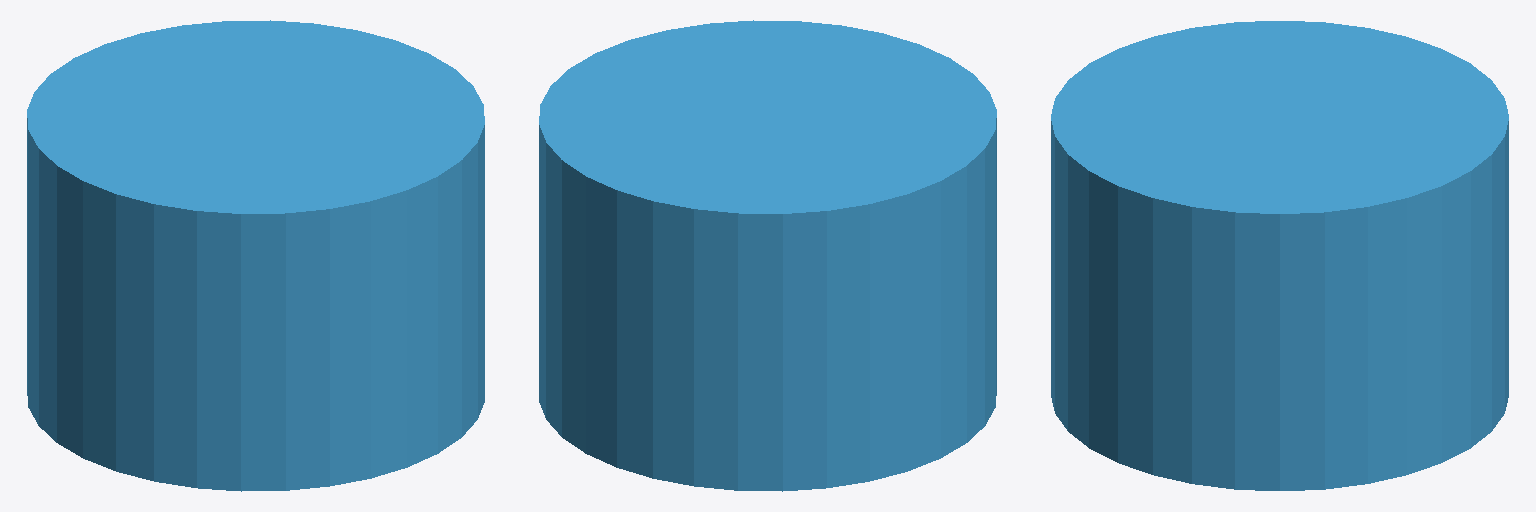
URDF robot description (kuka_lwr_peg_robot):
<?xml version="1.0" ?>
<!-- =================================================================================== -->
<!-- |    This document was autogenerated by xacro from peg_lwr_robot.urdf.xacro       | -->
<!-- |    EDITING THIS FILE BY HAND IS NOT RECOMMENDED                                 | -->
<!-- =================================================================================== -->
<robot name="kuka_lwr_peg_robot" xmlns:xacro="http://ros.org/wiki/xacro">
  <!-- Include all models -->
  <!-- utils /-->
  <!-- Little helper macro to define the inertia matrix needed for links. -->
  <!-- length is along the y-axis! -->
  <material name="Kuka/DarkGrey">
    <color rgba="0.3 0.3 0.3 1.0"/>
  </material>
  <material name="Kuka/LightGrey">
    <color rgba="0.8 0.8 0.8 1.0"/>
  </material>
  <material name="Kuka/Red">
    <color rgba="0.3 0.3 0.3 1.0"/>
  </material>
  <material name="Kuka/Black">
    <color rgba="0 0 0 1.0"/>
  </material>
  <material name="Kuka/Orange">
    <color rgba="1.0 0.487 0 1.0"/>
  </material>
  <material name="Kuka/Silver">
    <color rgba="1.0 1.0 1.0 1.0"/>
  </material>
  <material name="Kuka/Grey">
    <color rgba="0.7 0.7 0.7 1.0"/>
  </material>
  <material name="Kuka/Blue">
    <color rgba="0.0 0.0 0.8 1.0"/>
  </material>
  <!-- gazebo and transmission models /-->
  <!-- properties /-->
  <!-- reflex to stiffness -->
  <!-- URDF model /-->
  <!-- using the models -->
  <link name="world"/>
  <gazebo reference="world">
    <static>true</static>
    <turnGravityOff>true</turnGravityOff>
  </gazebo>
  <!-- First (shoulder) element of the arm. Fixed to its parent. -->
  <joint name="lwr_base_joint" type="fixed">
    <origin rpy="0 0 0" xyz="0 0 0"/>
    <origin rpy="0 0 0" xyz="0 0 0"/>
    <parent link="world"/>
    <child link="lwr_0_link"/>
  </joint>
  <link name="lwr_0_link">
    <inertial>
      <mass value="2.0"/>
      <origin xyz="0 0 0.055"/>
      <inertia ixx="0.00381666666667" ixy="0" ixz="0" iyy="0.0036" iyz="0" izz="0.00381666666667"/>
    </inertial>
    <visual>
      <origin rpy="0 0 3.14159265359" xyz="0 0 0"/>
      <geometry>
        <mesh filename="lwr_description/meshes/base.dae"/>
      </geometry>
      <material name="Kuka/Orange"/>
    </visual>
    <collision>
      <origin rpy="0 0 3.14159265359" xyz="0 0 0.055"/>
      <geometry>
        <!-- <mesh filename="lwr_description/meshes/convex/arm_base_convex.stl"/> -->
        <cylinder length="0.11" radius="0.07"/>
      </geometry>
    </collision>
  </link>
  <!-- Second segment of the arm. Joint along z-axis -->
  <joint name="lwr_0_joint" type="revolute">
    <origin rpy="0 0 0" xyz="0 0 0.11"/>
    <axis xyz="0 0 1"/>
    <limit effort="176" lower="-2.96705972839" upper="2.96705972839" velocity="1.91986217719"/>
    <dynamics damping="1.0" friction="10.0"/>
    <parent link="lwr_0_link"/>
    <child link="lwr_1_link"/>
  </joint>
  <link name="lwr_1_link">
    <inertial>
      <mass value="2.0"/>
      <origin rpy="0 0 0" xyz="0 -0.06 0.130"/>
      <inertia ixx="0.0136666666667" ixy="0" ixz="0" iyy="0.003" iyz="0" izz="0.0118666666667"/>
    </inertial>
    <visual>
      <origin rpy="0 0 3.14159265359" xyz="0 0 -0.008"/>
      <geometry>
        <mesh filename="lwr_description/meshes/link_1.dae"/>
      </geometry>
      <material name="Kuka/Orange"/>
    </visual>
    <collision>
      <origin rpy="0 0 0" xyz="0 0 0.0"/>
      <geometry>
        <!--mesh filename="lwr_description/meshes/convex/arm_segment_a_convex.stl"/-->
        <sphere radius="0.07"/>
      </geometry>
    </collision>
    <collision>
      <origin rpy="0 0 0" xyz="0 0.06 0.2"/>
      <geometry>
        <sphere radius="0.07"/>
      </geometry>
    </collision>
    <collision>
      <origin rpy="-0.291 0 0" xyz="0 0.03 0.1"/>
      <geometry>
        <cylinder length="0.208" radius="0.07"/>
      </geometry>
    </collision>
  </link>
  <!-- Third segment of the arm. Joint along y-axis -->
  <joint name="lwr_1_joint" type="revolute">
    <origin rpy="0 0 0" xyz="0 0 0.2005"/>
    <axis xyz="0 -1 0"/>
    <limit effort="176" lower="-2.09439510239" upper="2.09439510239" velocity="1.91986217719"/>
    <dynamics damping="1.0" friction="10.0"/>
    <parent link="lwr_1_link"/>
    <child link="lwr_2_link"/>
  </joint>
  <link name="lwr_2_link">
    <inertial>
      <mass value="2.0"/>
      <origin rpy="0 0 0" xyz="0 0.06 0.07"/>
      <inertia ixx="0.0136666666667" ixy="0" ixz="0" iyy="0.003" iyz="0" izz="0.0118666666667"/>
    </inertial>
    <visual>
      <origin rpy="0 0 3.14159265359" xyz="0 0 0.0"/>
      <geometry>
        <mesh filename="lwr_description/meshes/link_2.dae"/>
      </geometry>
      <!--material name="Kuka/Orange"/-->
    </visual>
    <collision>
      <origin rpy="0 0 0" xyz="0 0 0.2"/>
      <geometry>
        <!--mesh filename="lwr_description/meshes/convex/arm_segment_b_convex.stl"/-->
        <sphere radius="0.07"/>
      </geometry>
    </collision>
    <collision>
      <origin rpy="0 0 0" xyz="0 -0.06 0.0"/>
      <geometry>
        <sphere radius="0.07"/>
      </geometry>
    </collision>
    <collision>
      <origin rpy="-0.291 0 0" xyz="0 -0.03 0.1"/>
      <geometry>
        <cylinder length="0.208" radius="0.07"/>
      </geometry>
    </collision>
  </link>
  <!-- Fourth element of the arm. z-axis -->
  <joint name="lwr_2_joint" type="revolute">
    <origin rpy="0 0 0" xyz="0 0 0.20"/>
    <axis xyz="0 0 1"/>
    <limit effort="100" lower="-2.96705972839" upper="2.96705972839" velocity="2.23402144255"/>
    <dynamics damping="1.0" friction="10.0"/>
    <parent link="lwr_2_link"/>
    <child link="lwr_3_link"/>
  </joint>
  <link name="lwr_3_link">
    <inertial>
      <mass value="2.0"/>
      <origin rpy="0 0 0" xyz="0 0.06 0.130"/>
      <inertia ixx="0.0136666666667" ixy="0" ixz="0" iyy="0.003" iyz="0" izz="0.0118666666667"/>
    </inertial>
    <visual>
      <origin rpy="0 0 3.14159265359" xyz="0 0 -0.008"/>
      <geometry>
        <mesh filename="lwr_description/meshes/link_3.dae"/>
      </geometry>
      <material name="Kuka/Orange"/>
    </visual>
    <collision>
      <origin rpy="0 0 0" xyz="0 0 0.0"/>
      <geometry>
        <!--mesh filename="lwr_description/meshes/convex/arm_segment_a_convex.stl"/-->
        <sphere radius="0.07"/>
      </geometry>
    </collision>
    <collision>
      <origin rpy="0 0 0" xyz="0 -0.06 0.2"/>
      <geometry>
        <sphere radius="0.07"/>
      </geometry>
    </collision>
    <collision>
      <origin rpy="0.291 0 0" xyz="0 -0.03 0.1"/>
      <geometry>
        <cylinder length="0.208" radius="0.07"/>
      </geometry>
    </collision>
  </link>
  <!-- fifth element of the arm. x-axis -->
  <joint name="lwr_3_joint" type="revolute">
    <origin rpy="0 0 0" xyz="0 0 0.20"/>
    <axis xyz="0 1 0"/>
    <limit effort="100" lower="-2.09439510239" upper="2.09439510239" velocity="2.23402144255"/>
    <dynamics damping="1.0" friction="10.0"/>
    <parent link="lwr_3_link"/>
    <child link="lwr_4_link"/>
  </joint>
  <link name="lwr_4_link">
    <inertial>
      <mass value="2.0"/>
      <origin rpy="0 0 0" xyz="0 -0.06 0.07"/>
      <inertia ixx="0.0136666666667" ixy="0" ixz="0" iyy="0.003" iyz="0" izz="0.0118666666667"/>
    </inertial>
    <visual>
      <origin rpy="0 0 3.14159265359" xyz="0 0 0.0"/>
      <geometry>
        <mesh filename="lwr_description/meshes/link_4.dae"/>
      </geometry>
      <material name="Kuka/Orange"/>
    </visual>
    <collision>
      <origin rpy="0 0 0" xyz="0 0 0.2"/>
      <geometry>
        <!--mesh filename="lwr_description/meshes/convex/arm_segment_b_convex.stl"/-->
        <sphere radius="0.07"/>
      </geometry>
    </collision>
    <collision>
      <origin rpy="0 0 0" xyz="0 0.06 0.0"/>
      <geometry>
        <sphere radius="0.07"/>
      </geometry>
    </collision>
    <collision>
      <origin rpy="0.291 0 0" xyz="0 0.03 0.1"/>
      <geometry>
        <cylinder length="0.208" radius="0.07"/>
      </geometry>
    </collision>
  </link>
  <!-- Sixth element of the arm. z-axis -->
  <joint name="lwr_4_joint" type="revolute">
    <origin rpy="0 0 0" xyz="0 0 0.20"/>
    <axis xyz="0 0 1"/>
    <limit effort="100" lower="-2.96705972839" upper="2.96705972839" velocity="3.56047167407"/>
    <dynamics damping="1.0" friction="10.0"/>
    <parent link="lwr_4_link"/>
    <child link="lwr_5_link"/>
  </joint>
  <link name="lwr_5_link">
    <inertial>
      <mass value="2.0"/>
      <origin rpy="0 0 0" xyz="0 0 0.124"/>
      <inertia ixx="0.0126506666667" ixy="0" ixz="0" iyy="0.003" iyz="0" izz="0.0108506666667"/>
    </inertial>
    <visual>
      <origin rpy="0 0 3.14159265359" xyz="0 0 -0.008"/>
      <geometry name="lwr_5_geom">
        <mesh filename="lwr_description/meshes/link_5.dae"/>
      </geometry>
      <material name="Kuka/Orange"/>
    </visual>
    <collision>
      <origin rpy="0 0 0" xyz="0 0 0.0"/>
      <geometry>
        <!--mesh filename="lwr_description/meshes/convex/arm_segment_last_convex.stl"/-->
        <sphere radius="0.07"/>
      </geometry>
    </collision>
    <collision>
      <origin rpy="0 0 0" xyz="0 0.04 0.19"/>
      <geometry>
        <sphere radius="0.07"/>
      </geometry>
    </collision>
    <collision>
      <origin rpy="-0.207 0 0" xyz="0 0.02 0.095"/>
      <geometry>
        <cylinder length="0.198" radius="0.07"/>
      </geometry>
    </collision>
  </link>
  <!-- Seventh element of the arm. z-axis -->
  <joint name="lwr_5_joint" type="revolute">
    <origin rpy="0 0 0" xyz="0 0 0.19"/>
    <axis xyz="0 -1 0"/>
    <limit effort="38" lower="-2.09439510239" upper="2.09439510239" velocity="3.21140582367"/>
    <dynamics damping="1.0" friction="10.0"/>
    <parent link="lwr_5_link"/>
    <child link="lwr_6_link"/>
  </joint>
  <link name="lwr_6_link">
    <inertial>
      <mass value="0.2"/>
      <origin rpy="0 0 0" xyz="0 0 0.0625"/>
      <inertia ixx="0.000520833333333" ixy="0" ixz="0" iyy="0.000520833333333" iyz="0" izz="0.000520833333333"/>
    </inertial>
    <visual>
      <origin rpy="0 0 3.14159265359" xyz="0 0 0"/>
      <geometry>
        <mesh filename="lwr_description/meshes/link_6.dae"/>
      </geometry>
      <material name="Kuka/Grey"/>
    </visual>
    <collision>
      <origin rpy="0 0 3.14159265359" xyz="0 0 0"/>
      <geometry>
        <mesh filename="lwr_description/meshes/convex/arm_wrist_convex.stl"/>
      </geometry>
    </collision>
  </link>
  <!-- Eighth element of the arm. z-axis -->
  <joint name="lwr_6_joint" type="revolute">
    <origin rpy="0 0 0" xyz="0 0 0.078"/>
    <axis xyz="0 0 1"/>
    <limit effort="38" lower="-2.96705972839" upper="2.96705972839" velocity="3.21140582367"/>
    <dynamics damping="1.0" friction="10.0"/>
    <parent link="lwr_6_link"/>
    <child link="lwr_7_link"/>
  </joint>
  <link name="lwr_7_link">
    <inertial>
      <mass value="0.2"/>
      <origin xyz="0 0 0"/>
      <inertia ixx="0.0333333333333" ixy="0" ixz="0" iyy="0.0333333333333" iyz="0" izz="0.0333333333333"/>
    </inertial>
    <visual>
      <origin rpy="0 0 3.14159265359" xyz="0 0 0"/>
      <geometry>
        <mesh filename="lwr_description/meshes/link_7.dae"/>
      </geometry>
      <material name="Kuka/DarkGrey"/>
    </visual>
    <collision>
      <origin rpy="0 0 3.14159265359" xyz="0 0 0"/>
      <geometry>
        <cylinder length="0.05" radius="0.04"/>
      </geometry>
    </collision>
  </link>
  <joint name="lwr_hand_joint" type="fixed">
    <parent link="lwr_7_link"/>
    <child link="lwr_hand_link"/>
    <origin rpy="0 0 0" xyz="0 0 0.02"/>
  </joint>
  <link name="lwr_hand_link">
    <inertial>
      <mass value="2.0"/>
      <origin xyz="0 0 0.055"/>
      <inertia ixx="0.00381666666667" ixy="0" ixz="0" iyy="0.0036" iyz="0" izz="0.00381666666667"/>
    </inertial>
    <visual>
      <geometry>
        <cylinder length="0.04" radius="0.03"/>
      </geometry>
    </visual>
    <collision>
      <geometry>
        <cylinder length="0.04" radius="0.03"/>
      </geometry>
    </collision>
  </link>
  <joint name="panda_hand_joint" type="fixed">
    <parent link="lwr_hand_link"/>
    <child link="panda_hand"/>
    <origin rpy="0 0 -0.785398163397" xyz="0 0 0.04"/>
  </joint>
  <link name="panda_hand">
    <visual>
      <geometry>
        <mesh filename="../panda/franka_description/meshes/visual/hand.dae"/>
      </geometry>
    </visual>
    <collision>
      <geometry>
        <mesh filename="../panda/franka_description/meshes/collision/hand.stl"/>
      </geometry>
    </collision>
  </link>
  <link name="panda_leftfinger">
    <visual>
      <geometry>
        <mesh filename="../panda/franka_description/meshes/visual/finger.dae"/>
      </geometry>
    </visual>
    <collision>
      <geometry>
        <mesh filename="../panda/franka_description/meshes/collision/finger.stl"/>
      </geometry>
    </collision>
  </link>
  <link name="panda_rightfinger">
    <visual>
      <origin rpy="0 0 3.14159265359" xyz="0 0 0"/>
      <geometry>
        <mesh filename="../panda/franka_description/meshes/visual/finger.dae"/>
      </geometry>
    </visual>
    <collision>
      <origin rpy="0 0 3.14159265359" xyz="0 0 0"/>
      <geometry>
        <mesh filename="../panda/franka_description/meshes/collision/finger.stl"/>
      </geometry>
    </collision>
  </link>
  <joint name="panda_finger_joint1" type="prismatic">
    <parent link="panda_hand"/>
    <child link="panda_leftfinger"/>
    <origin rpy="0 0 0" xyz="0 0 0.0584"/>
    <axis xyz="0 1 0"/>
    <limit effort="20" lower="0.0" upper="0.04" velocity="0.2"/>
  </joint>
  <joint name="panda_finger_joint2" type="prismatic">
    <parent link="panda_hand"/>
    <child link="panda_rightfinger"/>
    <origin rpy="0 0 0" xyz="0 0 0.0584"/>
    <axis xyz="0 -1 0"/>
    <limit effort="20" lower="0.0" upper="0.04" velocity="0.2"/>
    <mimic joint="panda_finger_joint1"/>
  </joint>
</robot>

--- Render facts (derived) ---
3 views of the same robot in one strip: view 1: azimuth 30°, elevation 25°; view 2: azimuth 150°, elevation 25°; view 3: azimuth 270°, elevation 25° (orthographic).
Model kuka_lwr_peg_robot with 13 links and 12 joints (7 revolute, 2 prismatic, 3 fixed), rooted at world, posed every joint at zero.
Visible links, largest first — view 1: lwr_hand_link; view 2: lwr_hand_link; view 3: lwr_hand_link.
Link boxes in pixels (bbox=[...]): lwr_hand_link: bbox=[27, 20, 484, 491]; lwr_hand_link: bbox=[539, 20, 996, 491]; lwr_hand_link: bbox=[1051, 21, 1508, 490].
Size in the robot's own frame: 0.06 by 0.06 by 0.04 metres.
Meshes: 10 distinct files referenced, 0 mesh visuals loaded (none loaded); not drawn: 3 (reference not matched to a file when rendering), 8 (file found but could not be loaded).